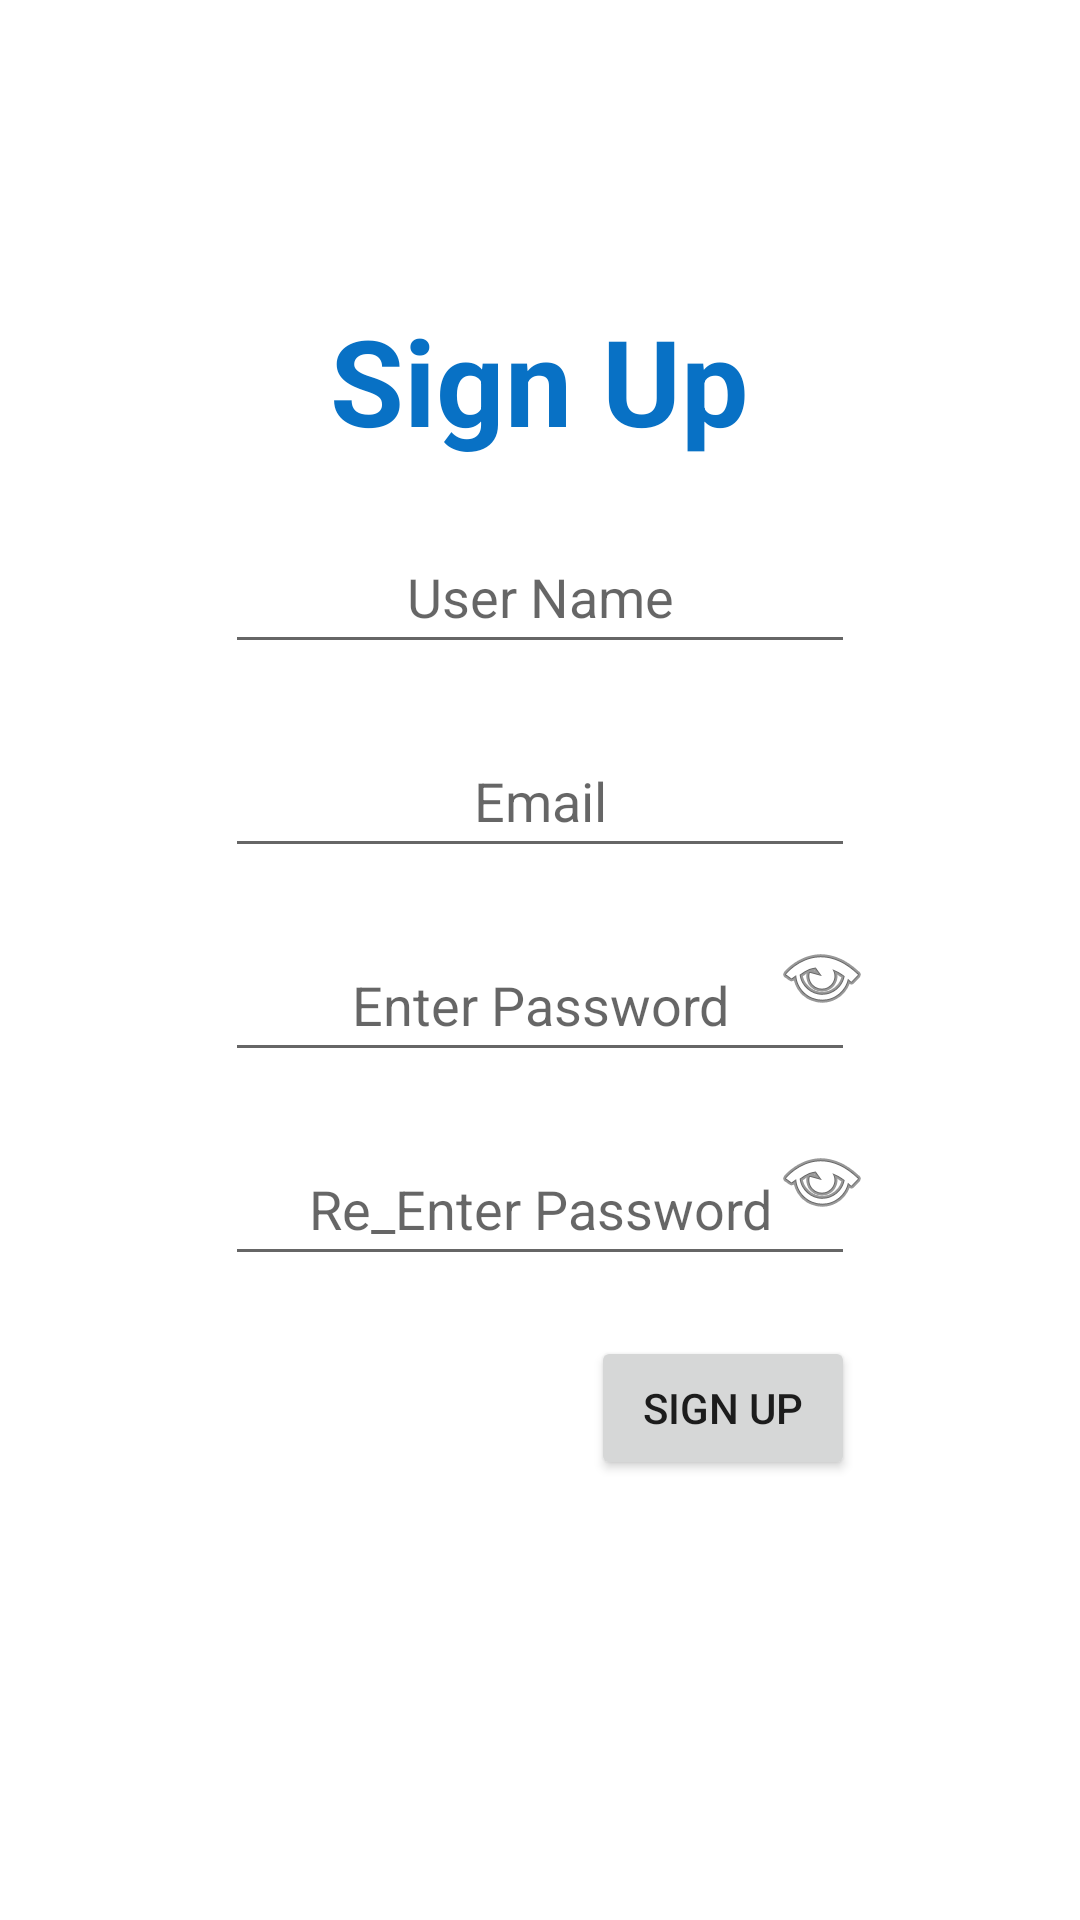

Where icons sit on this 1080x1920 app screen, as bbox(x1, y1, x2, y2):
Show password: bbox(783, 954, 861, 1003), bbox(783, 1158, 861, 1207)
